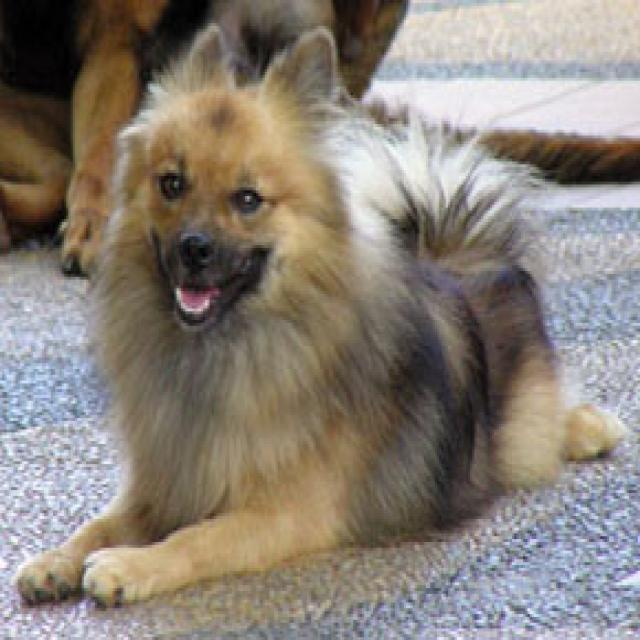dog-pomeranian: (9, 20, 629, 611)
